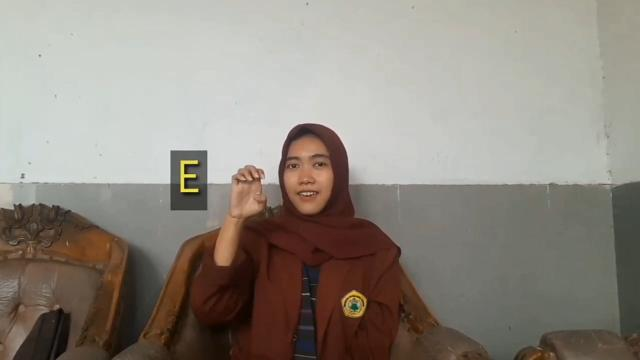E: (230, 163, 268, 221)
